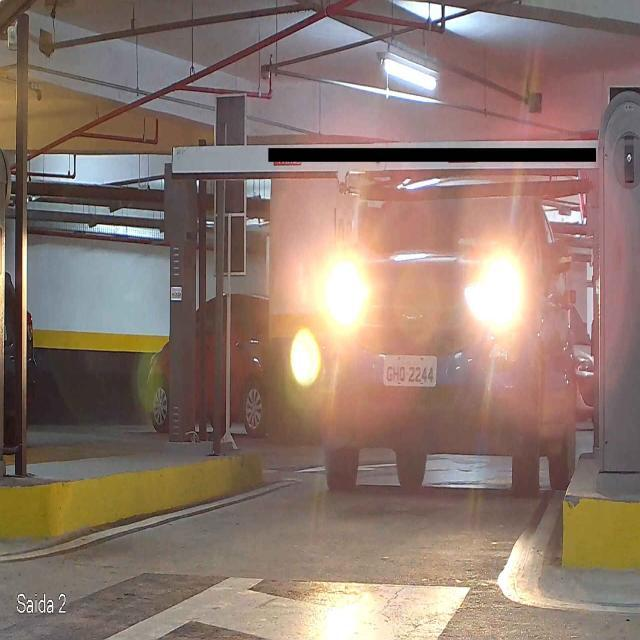old_plate: (382, 353, 439, 389)
